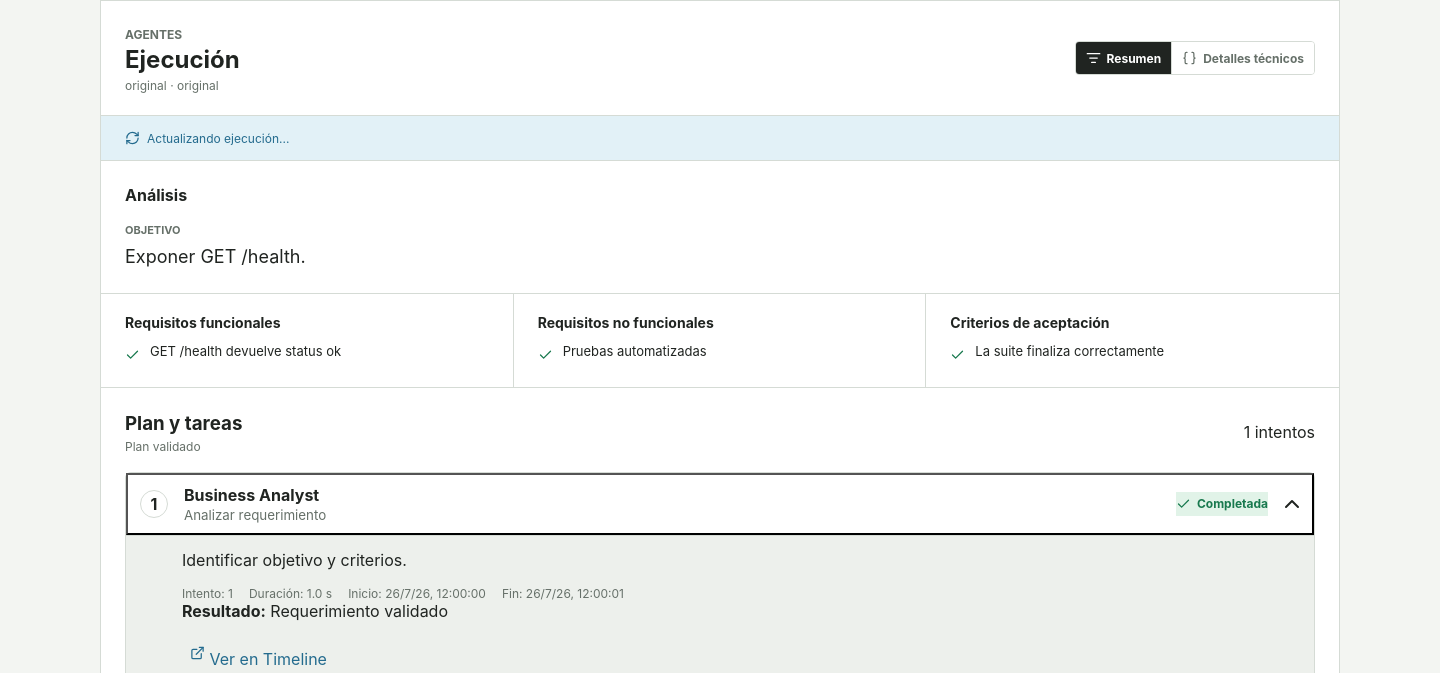
Test case: WorkflowExecutionTab summary › shows stable task identifiers only in technical mode
Expected: the text "task-analysis" is not shown
Click the button "Detalles técnicos" at (1243,58), box x1=1172 y1=42 x2=1314 y2=74
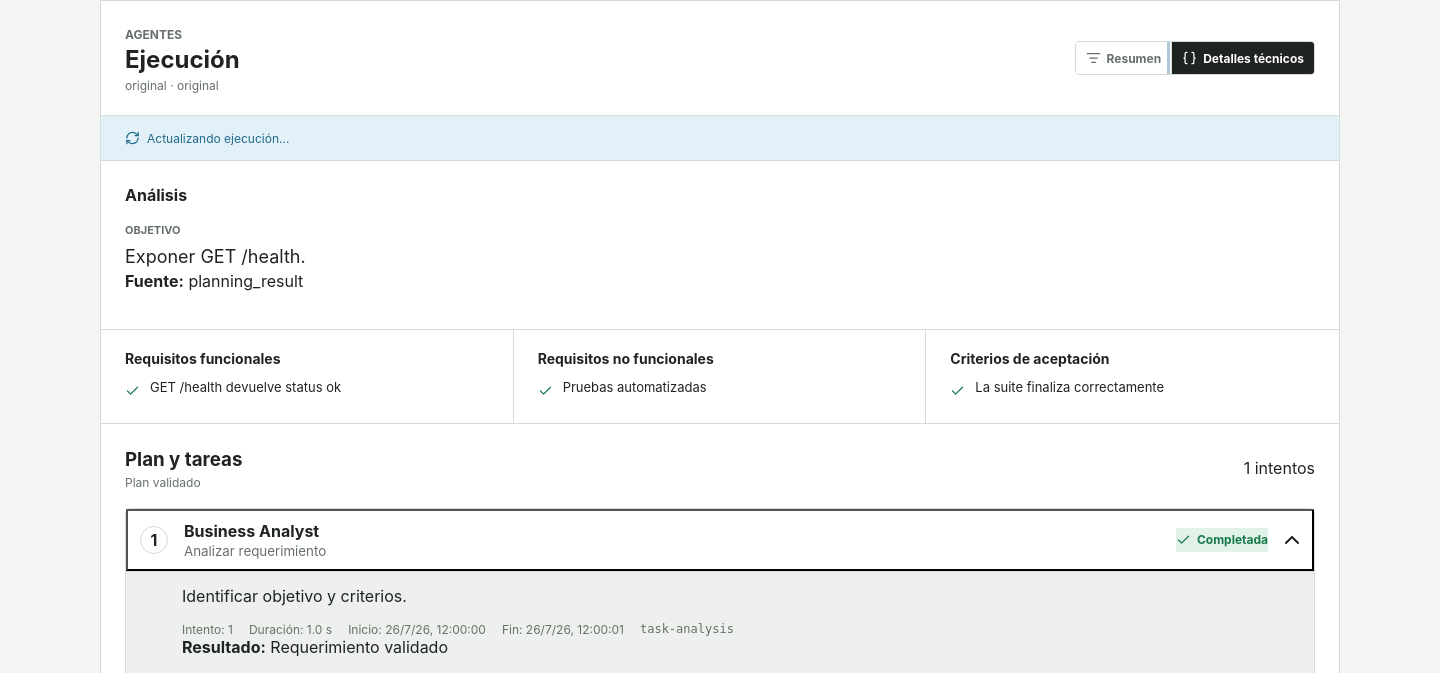
Expected: the text "task-analysis" is shown, x1=640 y1=622 x2=734 y2=636
